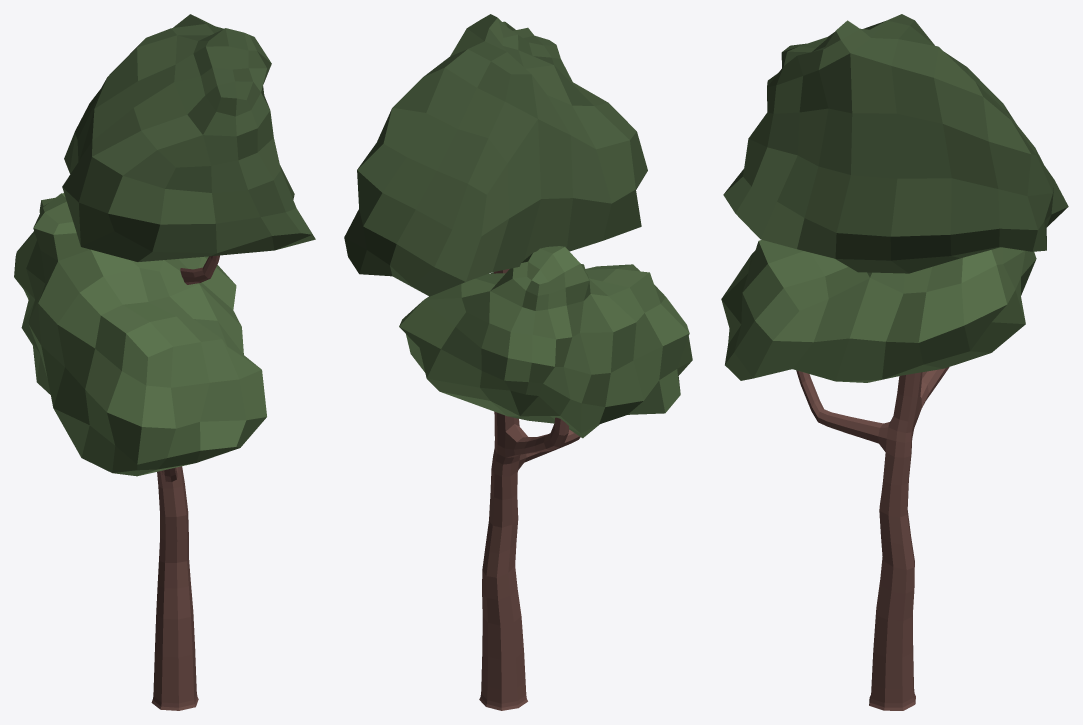
File: commontree_3.glb
The picture shows the model from 3 angles, left to right: view 1: azimuth 30°, elevation 25°; view 2: azimuth 150°, elevation 25°; view 3: azimuth 270°, elevation 25°; orthographic projection. The views are drawn at different scales.
Visible parts, largest first — view 1: CommonTree_3; view 2: CommonTree_3; view 3: CommonTree_3.
Boxes of the visible parts, <box> form: CommonTree_3: <box>14,14,315,710</box>; CommonTree_3: <box>344,14,692,710</box>; CommonTree_3: <box>721,14,1068,710</box>.
Bounding box in the file's own units: 3.06 × 8.3 × 3.75.
